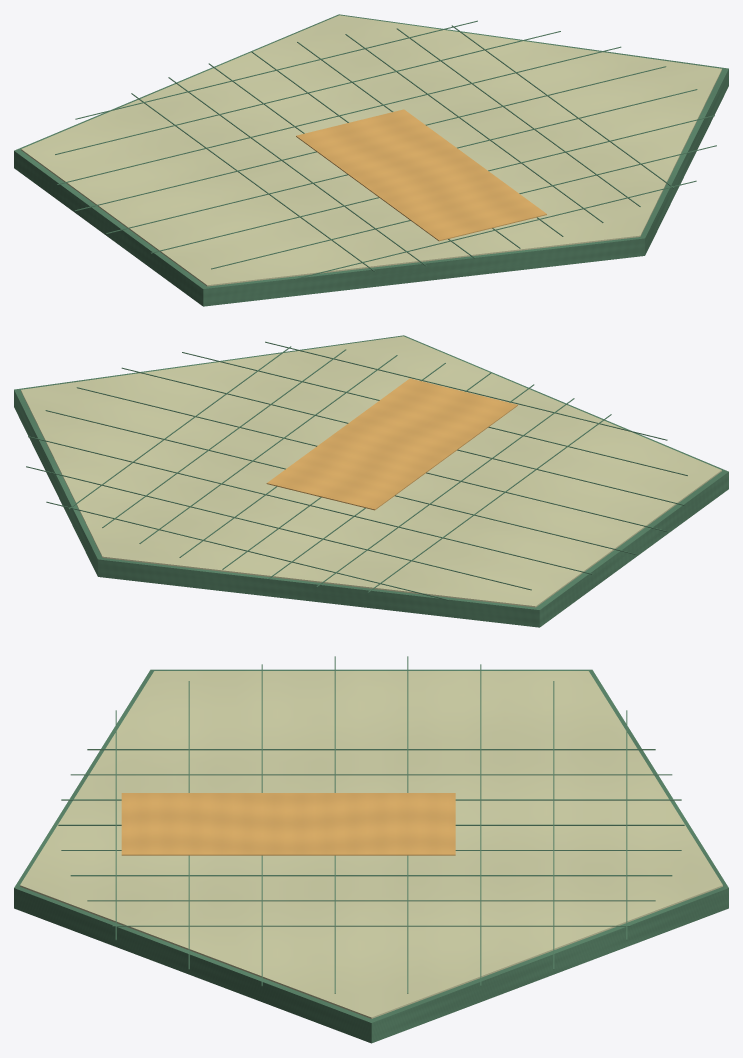
File: atlas100-s002-a07.lod1.glb
3 renders of one model, top to bottom at view 1: azimuth 30°, elevation 25°; view 2: azimuth 150°, elevation 25°; view 3: azimuth 270°, elevation 25°, orthographic. The views are drawn at different scales.
Parts seen in each view (by area): view 1: atlas100-s002-a07:part-001, atlas100-s002-a07:part-000, atlas100-s002-a07:part-021, atlas100-s002-a07:part-015, atlas100-s002-a07:part-014, atlas100-s002-a07:part-016, atlas100-s002-a07:part-017, atlas100-s002-a07:part-018, atlas100-s002-a07:part-020, atlas100-s002-a07:part-013, atlas100-s002-a07:part-019, atlas100-s002-a07:part-005 (+3 smaller); view 2: atlas100-s002-a07:part-001, atlas100-s002-a07:part-000, atlas100-s002-a07:part-021, atlas100-s002-a07:part-015, atlas100-s002-a07:part-014, atlas100-s002-a07:part-017, atlas100-s002-a07:part-016, atlas100-s002-a07:part-018, atlas100-s002-a07:part-013, atlas100-s002-a07:part-020, atlas100-s002-a07:part-019, atlas100-s002-a07:part-005 (+3 smaller); view 3: atlas100-s002-a07:part-001, atlas100-s002-a07:part-021, atlas100-s002-a07:part-000, atlas100-s002-a07:part-005, atlas100-s002-a07:part-009, atlas100-s002-a07:part-004, atlas100-s002-a07:part-010, atlas100-s002-a07:part-011, atlas100-s002-a07:part-015.
Part boxes in pixels (box(x1,y1,x2,y2)): atlas100-s002-a07:part-001: box(21, 15, 721, 286); atlas100-s002-a07:part-000: box(14, 14, 728, 306); atlas100-s002-a07:part-021: box(296, 109, 546, 241); atlas100-s002-a07:part-015: box(57, 46, 621, 184); atlas100-s002-a07:part-014: box(55, 31, 560, 154); atlas100-s002-a07:part-016: box(74, 66, 666, 211); atlas100-s002-a07:part-017: box(106, 89, 697, 233); atlas100-s002-a07:part-018: box(150, 115, 714, 253); atlas100-s002-a07:part-020: box(294, 180, 696, 279); atlas100-s002-a07:part-013: box(75, 20, 477, 119); atlas100-s002-a07:part-019: box(211, 145, 716, 269); atlas100-s002-a07:part-005: box(168, 77, 426, 266); atlas100-s002-a07:part-001: box(21, 336, 721, 607); atlas100-s002-a07:part-000: box(14, 335, 728, 627); atlas100-s002-a07:part-021: box(266, 378, 517, 510); atlas100-s002-a07:part-015: box(28, 436, 592, 574); atlas100-s002-a07:part-014: box(26, 466, 531, 590); atlas100-s002-a07:part-017: box(76, 387, 668, 532); atlas100-s002-a07:part-016: box(45, 410, 636, 554); atlas100-s002-a07:part-018: box(121, 367, 685, 505); atlas100-s002-a07:part-013: box(46, 501, 448, 600); atlas100-s002-a07:part-020: box(265, 341, 667, 440); atlas100-s002-a07:part-019: box(182, 352, 687, 475); atlas100-s002-a07:part-005: box(316, 398, 574, 587); atlas100-s002-a07:part-001: box(20, 671, 722, 1018); atlas100-s002-a07:part-021: box(121, 793, 455, 855); atlas100-s002-a07:part-000: box(14, 669, 728, 1043); atlas100-s002-a07:part-005: box(70, 774, 672, 775); atlas100-s002-a07:part-009: box(70, 875, 672, 876); atlas100-s002-a07:part-004: box(87, 749, 655, 750); atlas100-s002-a07:part-010: box(87, 900, 655, 901); atlas100-s002-a07:part-011: box(112, 925, 630, 926); atlas100-s002-a07:part-015: box(480, 664, 481, 986).
Size of the model in its own units: 12.99 by 0.404 by 10.78.
3 materials, 3 textured.
